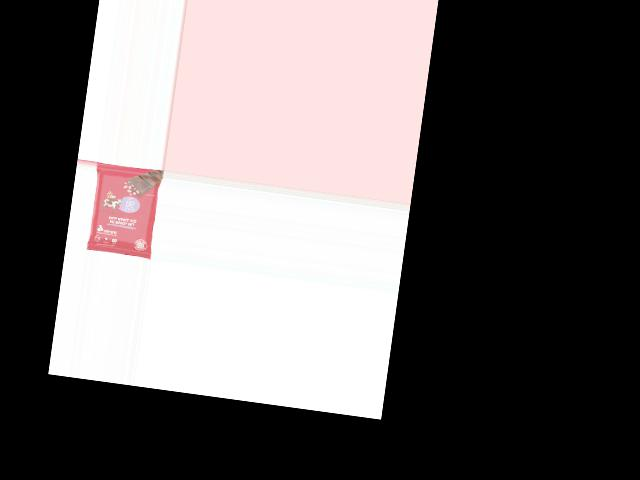chocolate: (85, 162, 161, 259)
